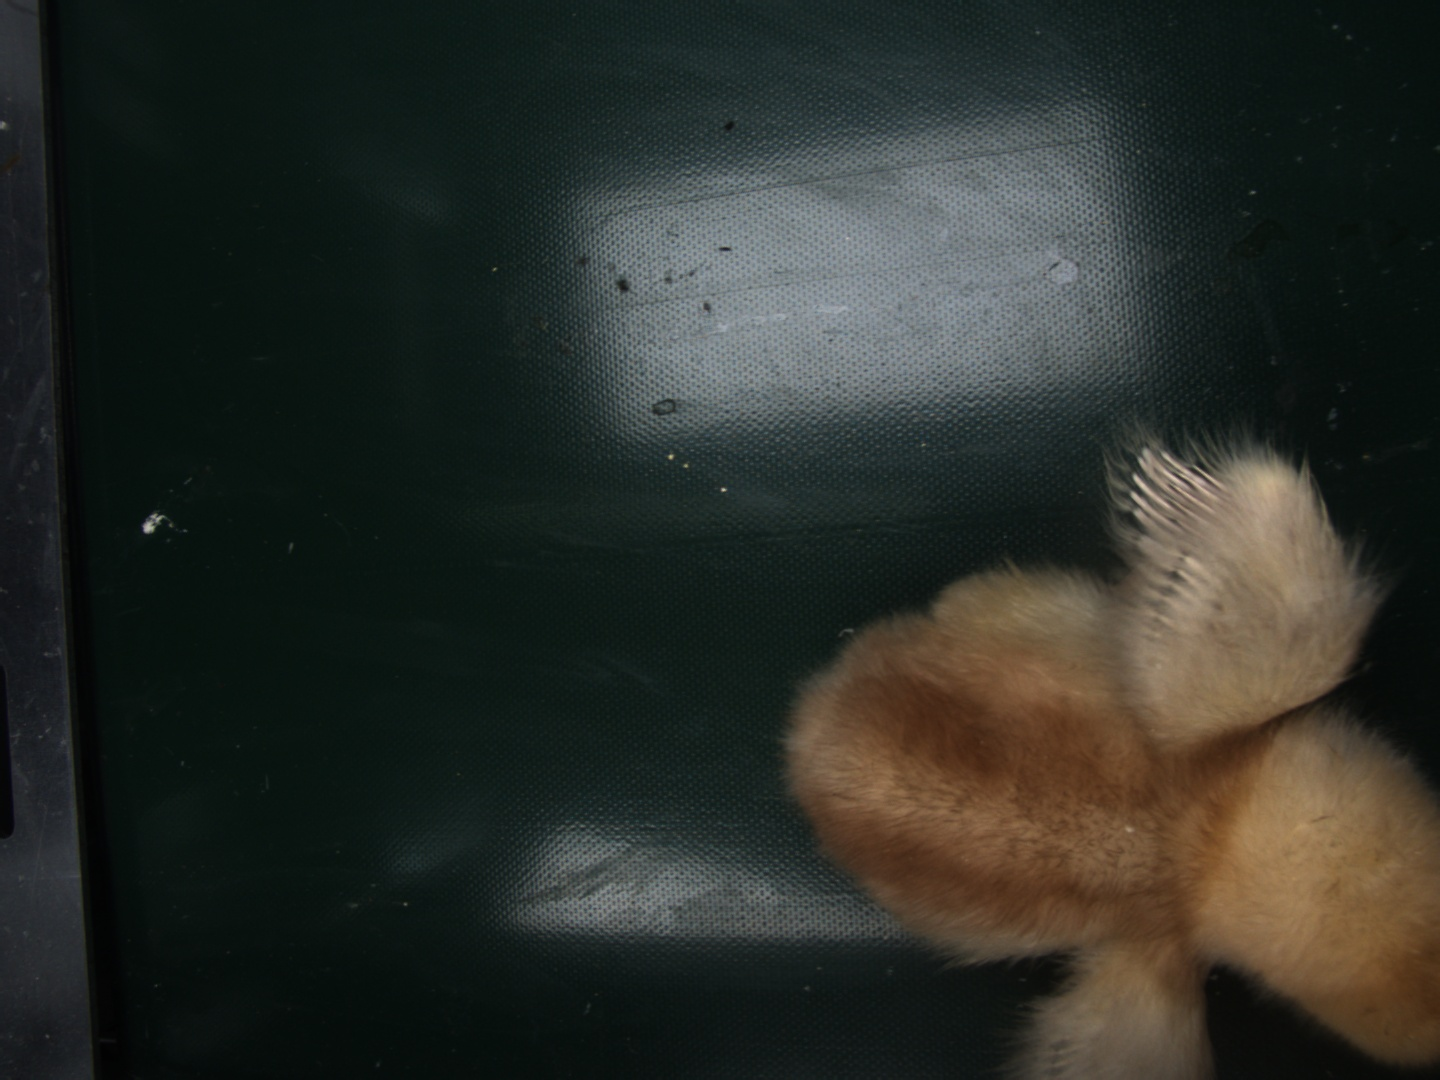female: (1127, 442, 1230, 539)
